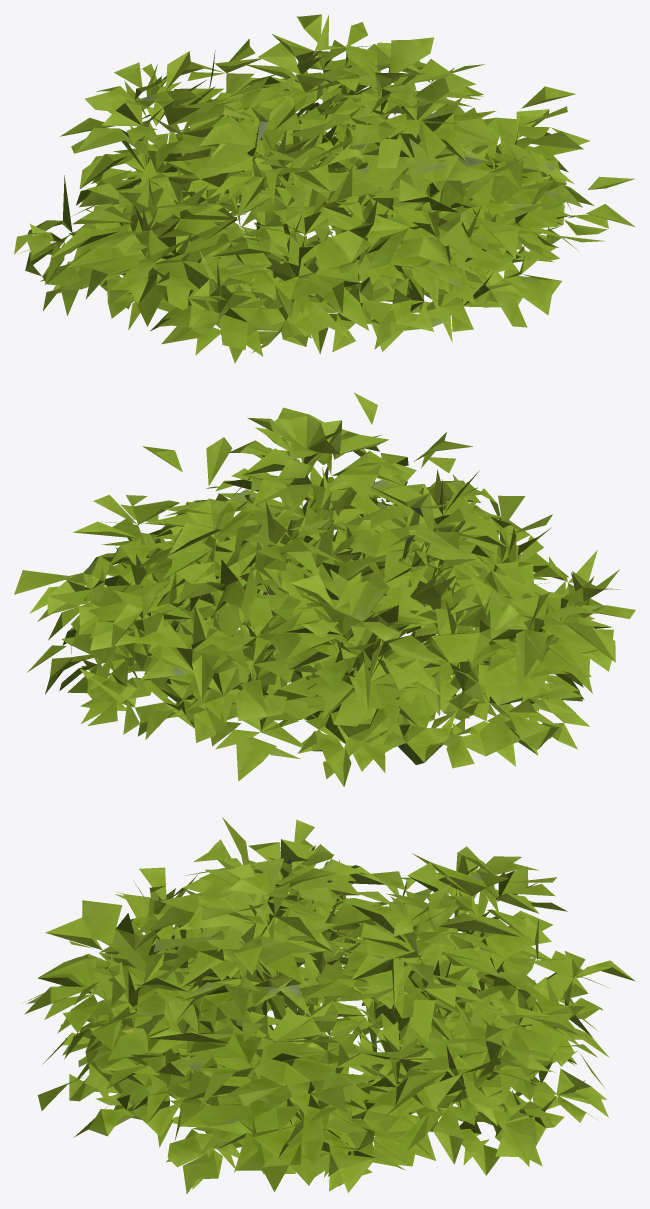
The model's file is bush.glb.
The picture shows the model from 3 angles, top to bottom: view 1: azimuth 30°, elevation 25°; view 2: azimuth 150°, elevation 25°; view 3: azimuth 270°, elevation 25°; orthographic projection. The views are drawn at different scales.
Size of the model in its own units: 1.86 by 0.7179 by 1.71.
1 material, 1 textured.
